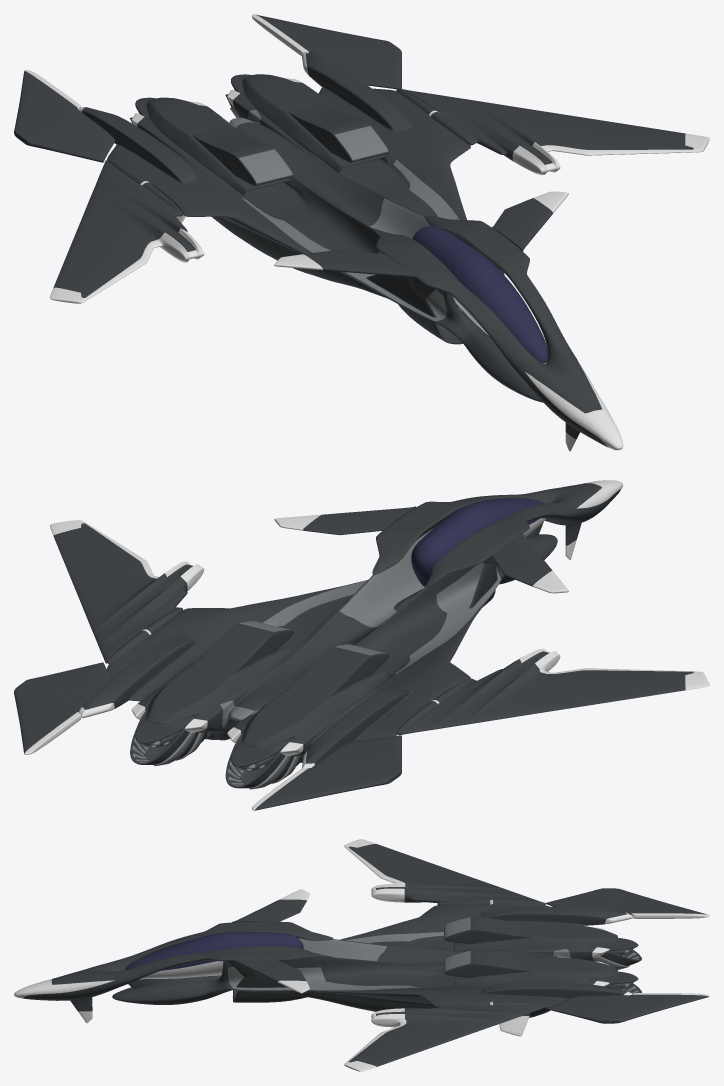
Rendered from jet.glb.
The picture shows the model from 3 angles, top to bottom: view 1: azimuth 30°, elevation 25°; view 2: azimuth 150°, elevation 25°; view 3: azimuth 270°, elevation 25°; orthographic projection. The views are drawn at different scales.
Visible parts, largest first — view 1: Body, WingMain, WingTail, Cockpit, WingHead, Intake; view 2: Body, WingMain, WingTail, WingHead, Cockpit, EnginePipe, EngineNozzle; view 3: Body, WingMain, WingTail, Cockpit, WingHead, EngineNozzle, EnginePipe, Intake.
Boxes of the visible parts, x1=… form: Body: x1=79, y1=53, x2=623, y2=451; WingMain: x1=50, y1=88, x2=709, y2=303; WingTail: x1=14, y1=14, x2=401, y2=162; Cockpit: x1=412, y1=226, x2=548, y2=364; WingHead: x1=274, y1=191, x2=568, y2=278; Intake: x1=239, y1=126, x2=388, y2=183; Body: x1=78, y1=480, x2=623, y2=768; WingMain: x1=50, y1=520, x2=709, y2=734; WingTail: x1=14, y1=662, x2=401, y2=810; WingHead: x1=274, y1=506, x2=568, y2=593; Cockpit: x1=411, y1=498, x2=546, y2=586; EnginePipe: x1=130, y1=708, x2=303, y2=789; EngineNozzle: x1=135, y1=715, x2=289, y2=772; Body: x1=14, y1=899, x2=633, y2=1036; WingMain: x1=344, y1=839, x2=545, y2=1071; WingTail: x1=546, y1=888, x2=709, y2=1023; Cockpit: x1=125, y1=931, x2=303, y2=979; WingHead: x1=232, y1=889, x2=309, y2=993; EngineNozzle: x1=590, y1=938, x2=638, y2=989; EnginePipe: x1=588, y1=946, x2=641, y2=993; Intake: x1=444, y1=917, x2=470, y2=971.
Size of the model in its own units: 14.91 by 2.68 by 18.87.
Materials: 1 (1 with a texture image).
